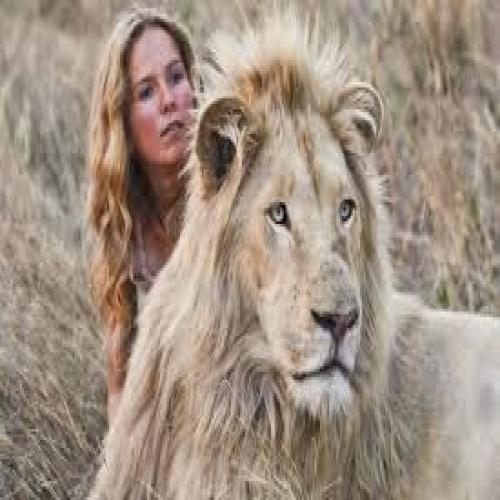lion-endangered: (87, 54, 499, 500)
